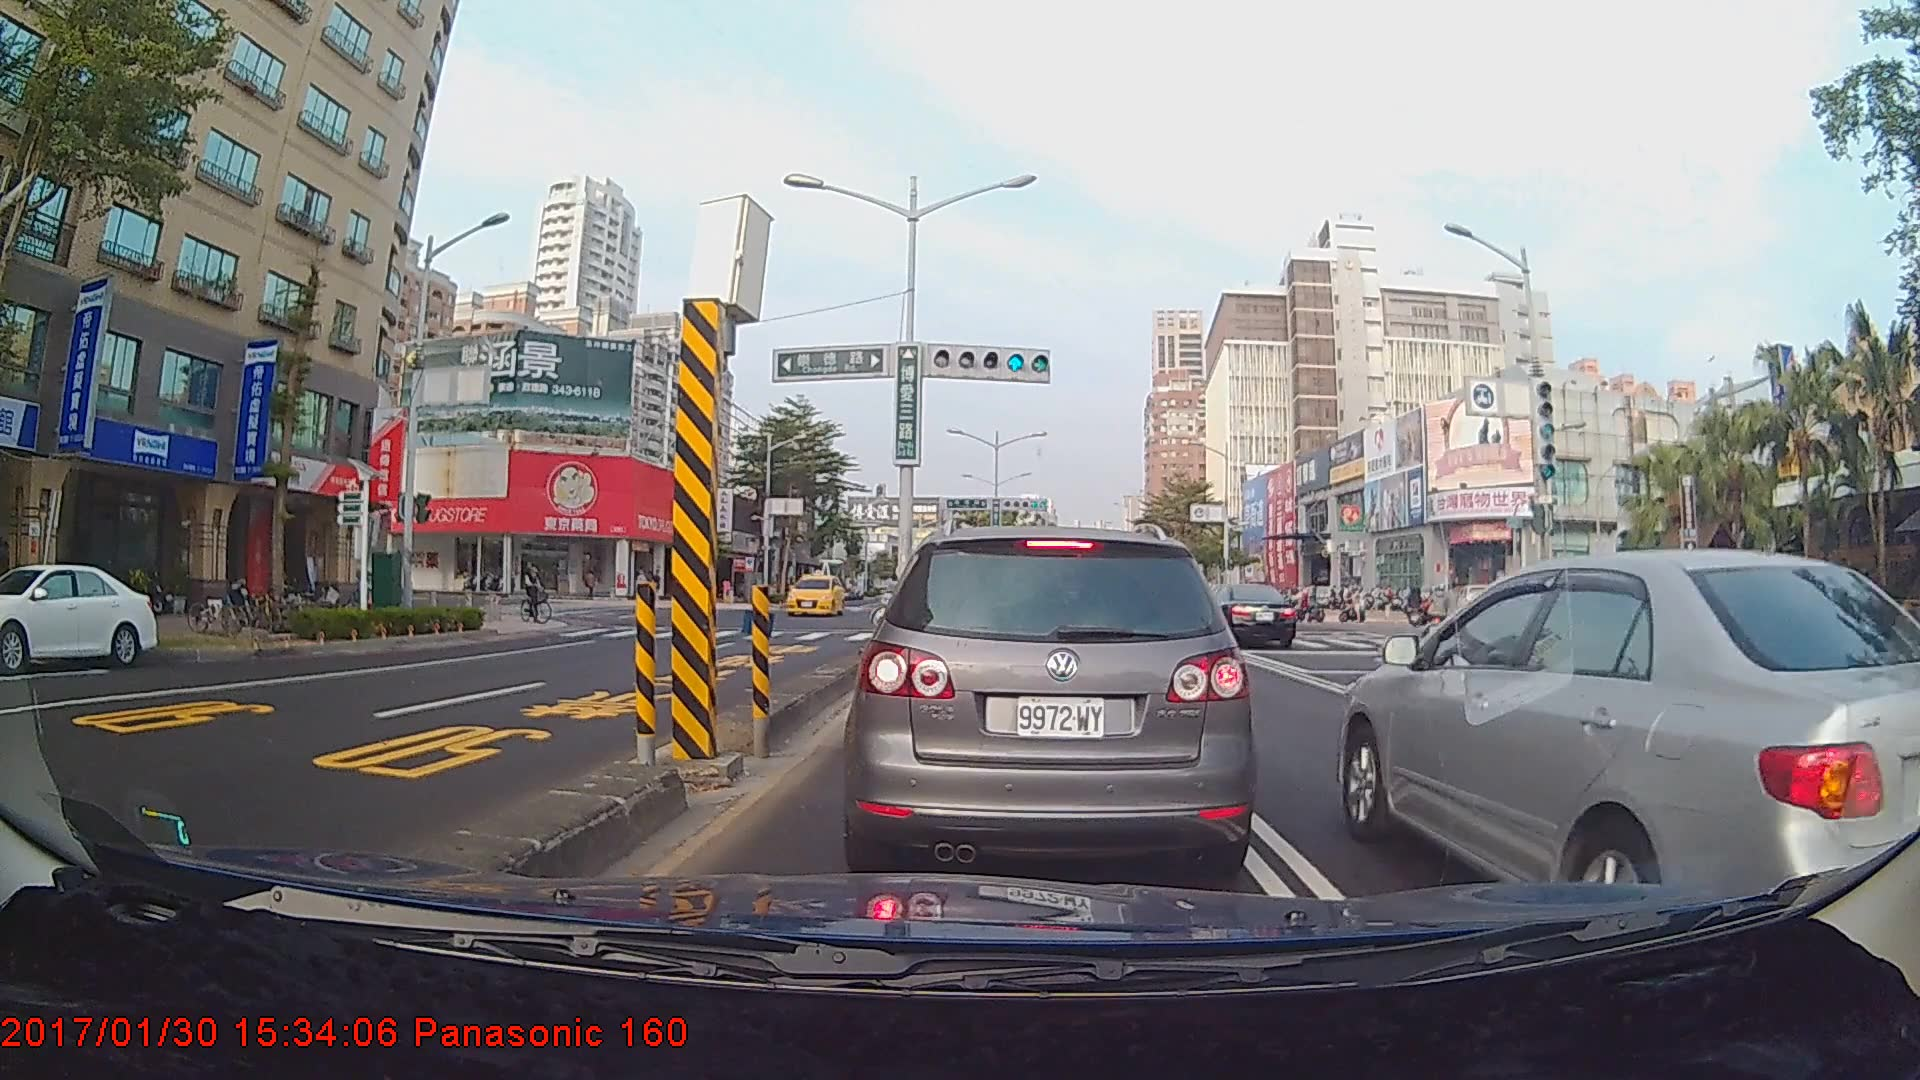rider: (518, 559, 561, 629), (1424, 580, 1455, 645)
vehicle: (1335, 546, 1920, 887), (858, 523, 1246, 877), (0, 561, 162, 671), (1193, 581, 1295, 648), (783, 574, 844, 616)
